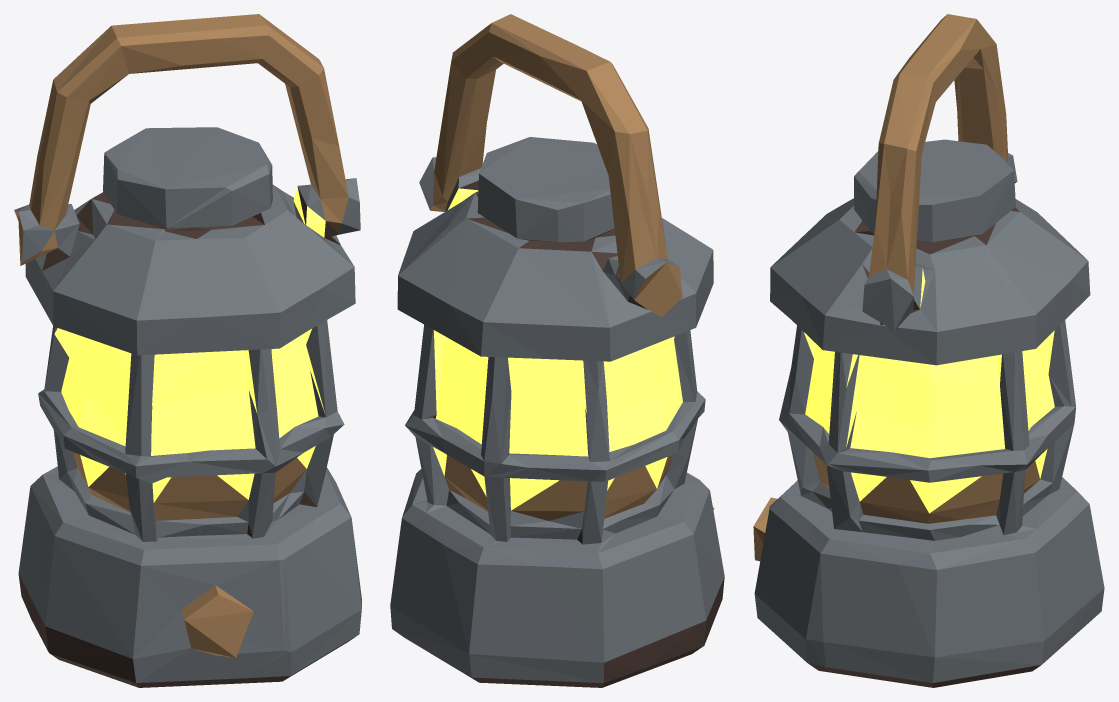
File: prop_hand_lantern.glb
3 views of the same model, side by side, from view 1: azimuth 30°, elevation 25°; view 2: azimuth 150°, elevation 25°; view 3: azimuth 270°, elevation 25° (orthographic). The views are drawn at different scales.
Visible parts, largest first — view 1: PropHandLanternBody; view 2: PropHandLanternBody; view 3: PropHandLanternBody.
Part boxes in pixels (left/top/right/bottom): PropHandLanternBody: left=14, top=14, right=361, bottom=687; PropHandLanternBody: left=390, top=14, right=724, bottom=687; PropHandLanternBody: left=753, top=14, right=1104, bottom=687.
Size of the model in its own units: 0.527 by 1 by 0.5499.
